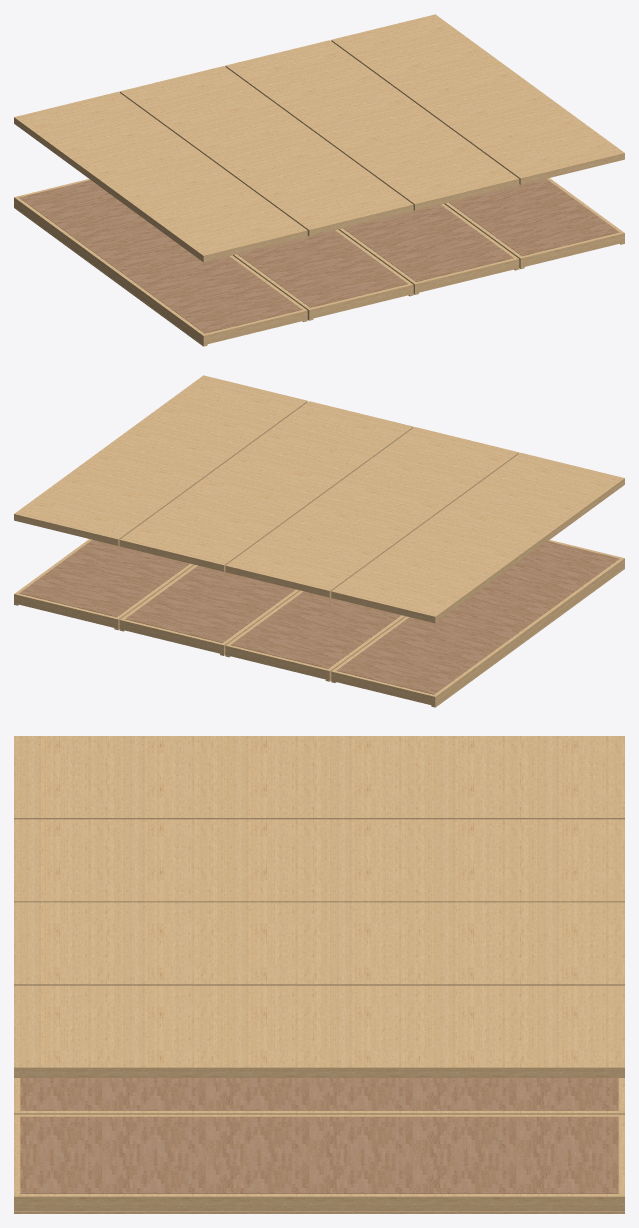
File: Horisontaalkonst.glb
3 views of the same model, one above another, from view 1: azimuth 30°, elevation 25°; view 2: azimuth 150°, elevation 25°; view 3: azimuth 270°, elevation 25° (orthographic). The views are drawn at different scales.
Parts seen in each view (by area): view 1: Lae-element_006 (×4), Porandakate_006 (×4), Poranda-element_006 (×4); view 2: Lae-element_006 (×4), Porandakate_006 (×4), Poranda-element_006 (×4); view 3: Lae-element_006 (×4), Porandakate_006 (×2), Poranda-element_006 (×2), Pruss 45x145_094.
Part boxes in pixels (box(x1,y1,x2,y2)): Lae-element_006 (×4): box(14, 14, 624, 262); Porandakate_006 (×4): box(19, 178, 619, 333); Poranda-element_006 (×4): box(14, 178, 624, 345); Lae-element_006 (×4): box(14, 375, 624, 623); Porandakate_006 (×4): box(19, 539, 619, 694); Poranda-element_006 (×4): box(14, 539, 624, 706); Lae-element_006 (×4): box(14, 736, 624, 1077); Porandakate_006 (×2): box(20, 1078, 618, 1193); Poranda-element_006 (×2): box(14, 1078, 624, 1211); Pruss 45x145_094: box(14, 1211, 624, 1213).
Bounding box in the file's own units: 15.15 × 3.12 × 11.8.
Materials: 2 (2 with a texture image).
